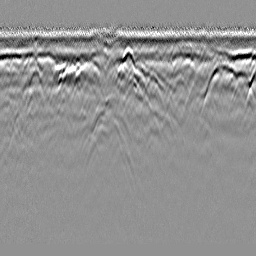cavity: (121, 44, 136, 66)
